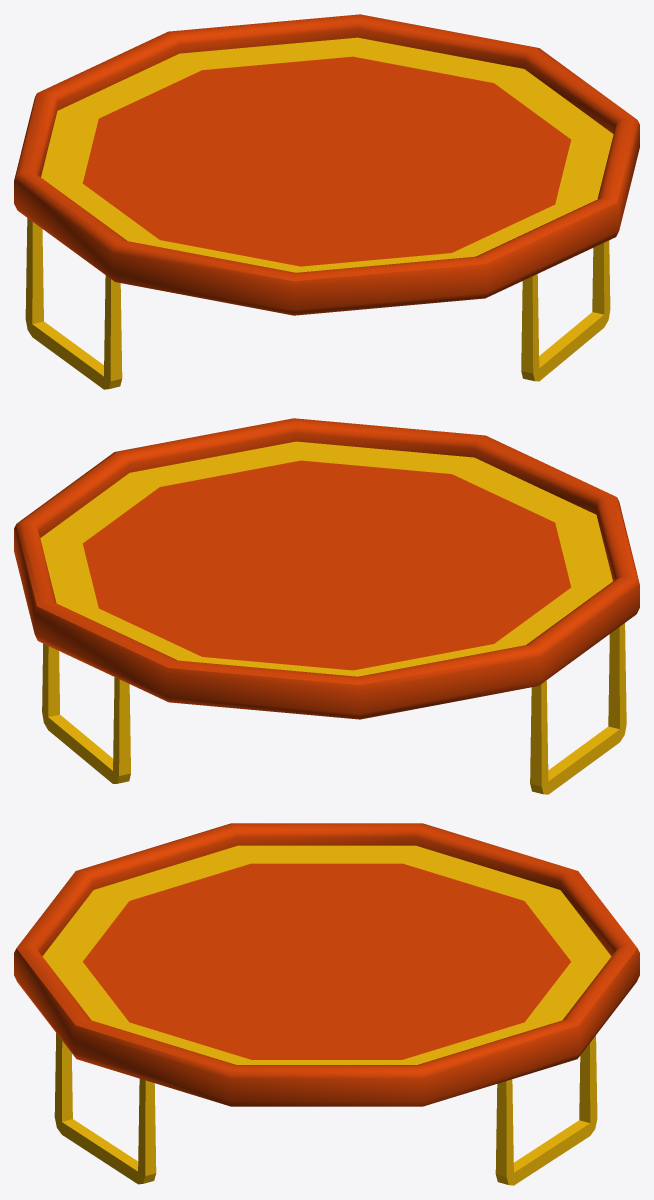
The model's file is Jump Place_1.fbx.
The picture shows the model from 3 angles, top to bottom: view 1: azimuth 30°, elevation 25°; view 2: azimuth 150°, elevation 25°; view 3: azimuth 270°, elevation 25°; orthographic projection. The views are drawn at different scales.
Visible parts, largest first — view 1: Jump Place_1; view 2: Jump Place_1; view 3: Jump Place_1.
Part boxes in pixels (x1,y1,x2,y2): Jump Place_1: [14, 14, 639, 389]; Jump Place_1: [14, 418, 639, 794]; Jump Place_1: [14, 823, 639, 1185].
Size of the model in its own units: 1.34 by 0.3787 by 1.41.
